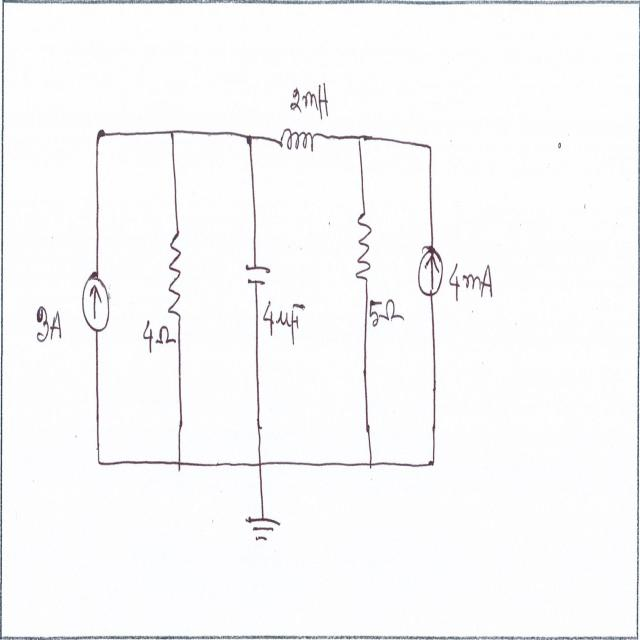capacitor: (241, 260, 274, 286)
current_source: (80, 270, 114, 335), (417, 240, 444, 302)
ground: (243, 513, 285, 548)
inductor: (279, 118, 326, 156)
resistor: (164, 226, 186, 324), (352, 209, 376, 284)
